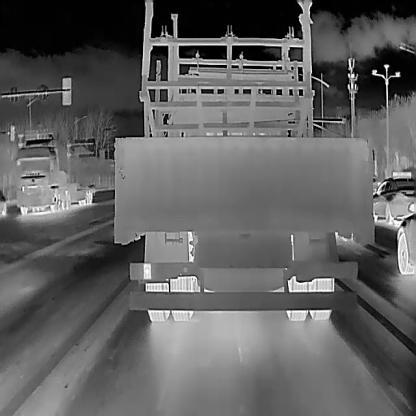car: (112, 55, 375, 320), (14, 137, 94, 214), (370, 168, 416, 224)
